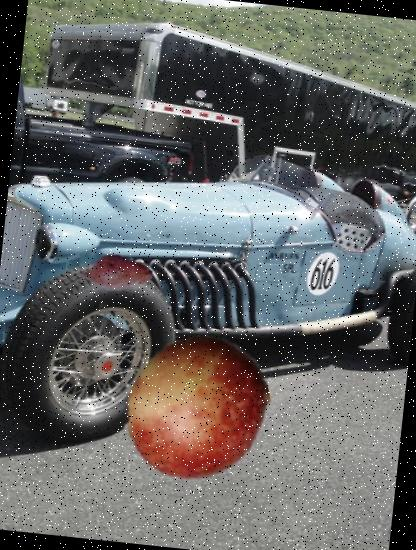Nectarine: (116, 327, 278, 489)
Salak: (76, 233, 156, 313)
